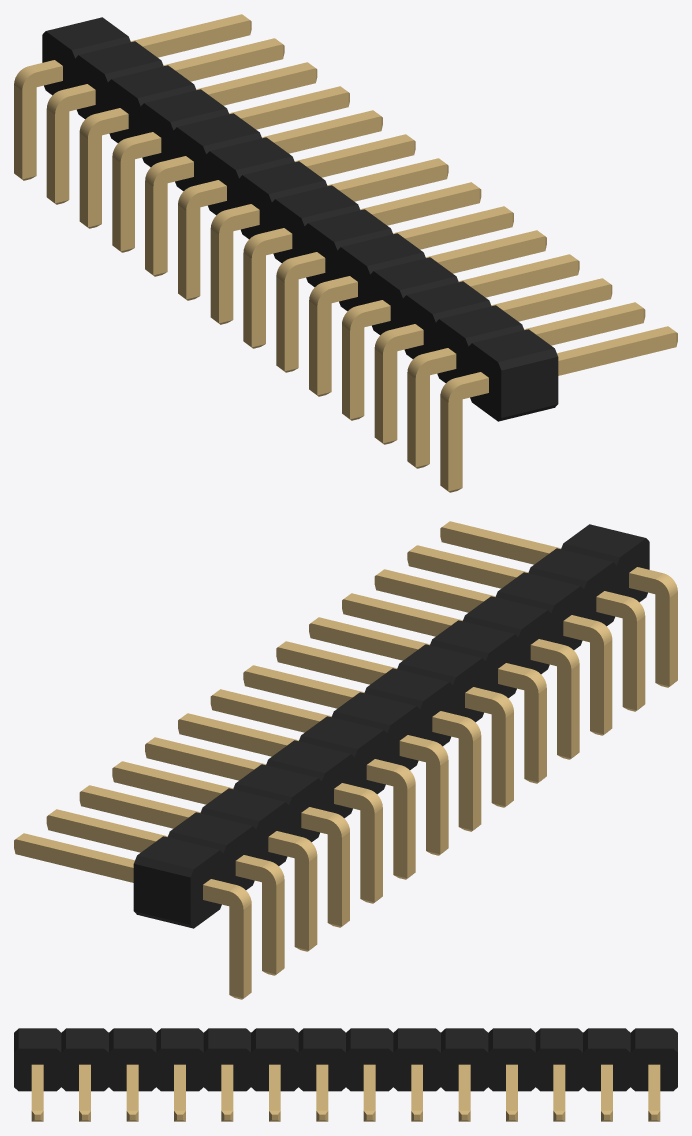
The model's file is kc-pinheader_1x14_p2.54mm_horizontal.glb.
The picture shows the model from 3 angles, top to bottom: view 1: azimuth 30°, elevation 25°; view 2: azimuth 150°, elevation 25°; view 3: azimuth 270°, elevation 25°; orthographic projection. The views are drawn at different scales.
Visible parts, largest first — view 1: 0.75_0.5_0.25_0.9, 0_0_0_0; view 2: 0.75_0.5_0.25_0.9, 0_0_0_0; view 3: 0_0_0_0, 0.75_0.5_0.25_0.9.
Boxes of the visible parts, <box> form: 0.75_0.5_0.25_0.9: <box>14,14,677,492</box>; 0_0_0_0: <box>42,17,558,421</box>; 0.75_0.5_0.25_0.9: <box>14,521,677,999</box>; 0_0_0_0: <box>133,524,649,928</box>; 0_0_0_0: <box>14,1028,677,1091</box>; 0.75_0.5_0.25_0.9: <box>31,1064,660,1121</box>.
Bounding box in the file's own units: 1.04 × 0.554 × 3.56.
